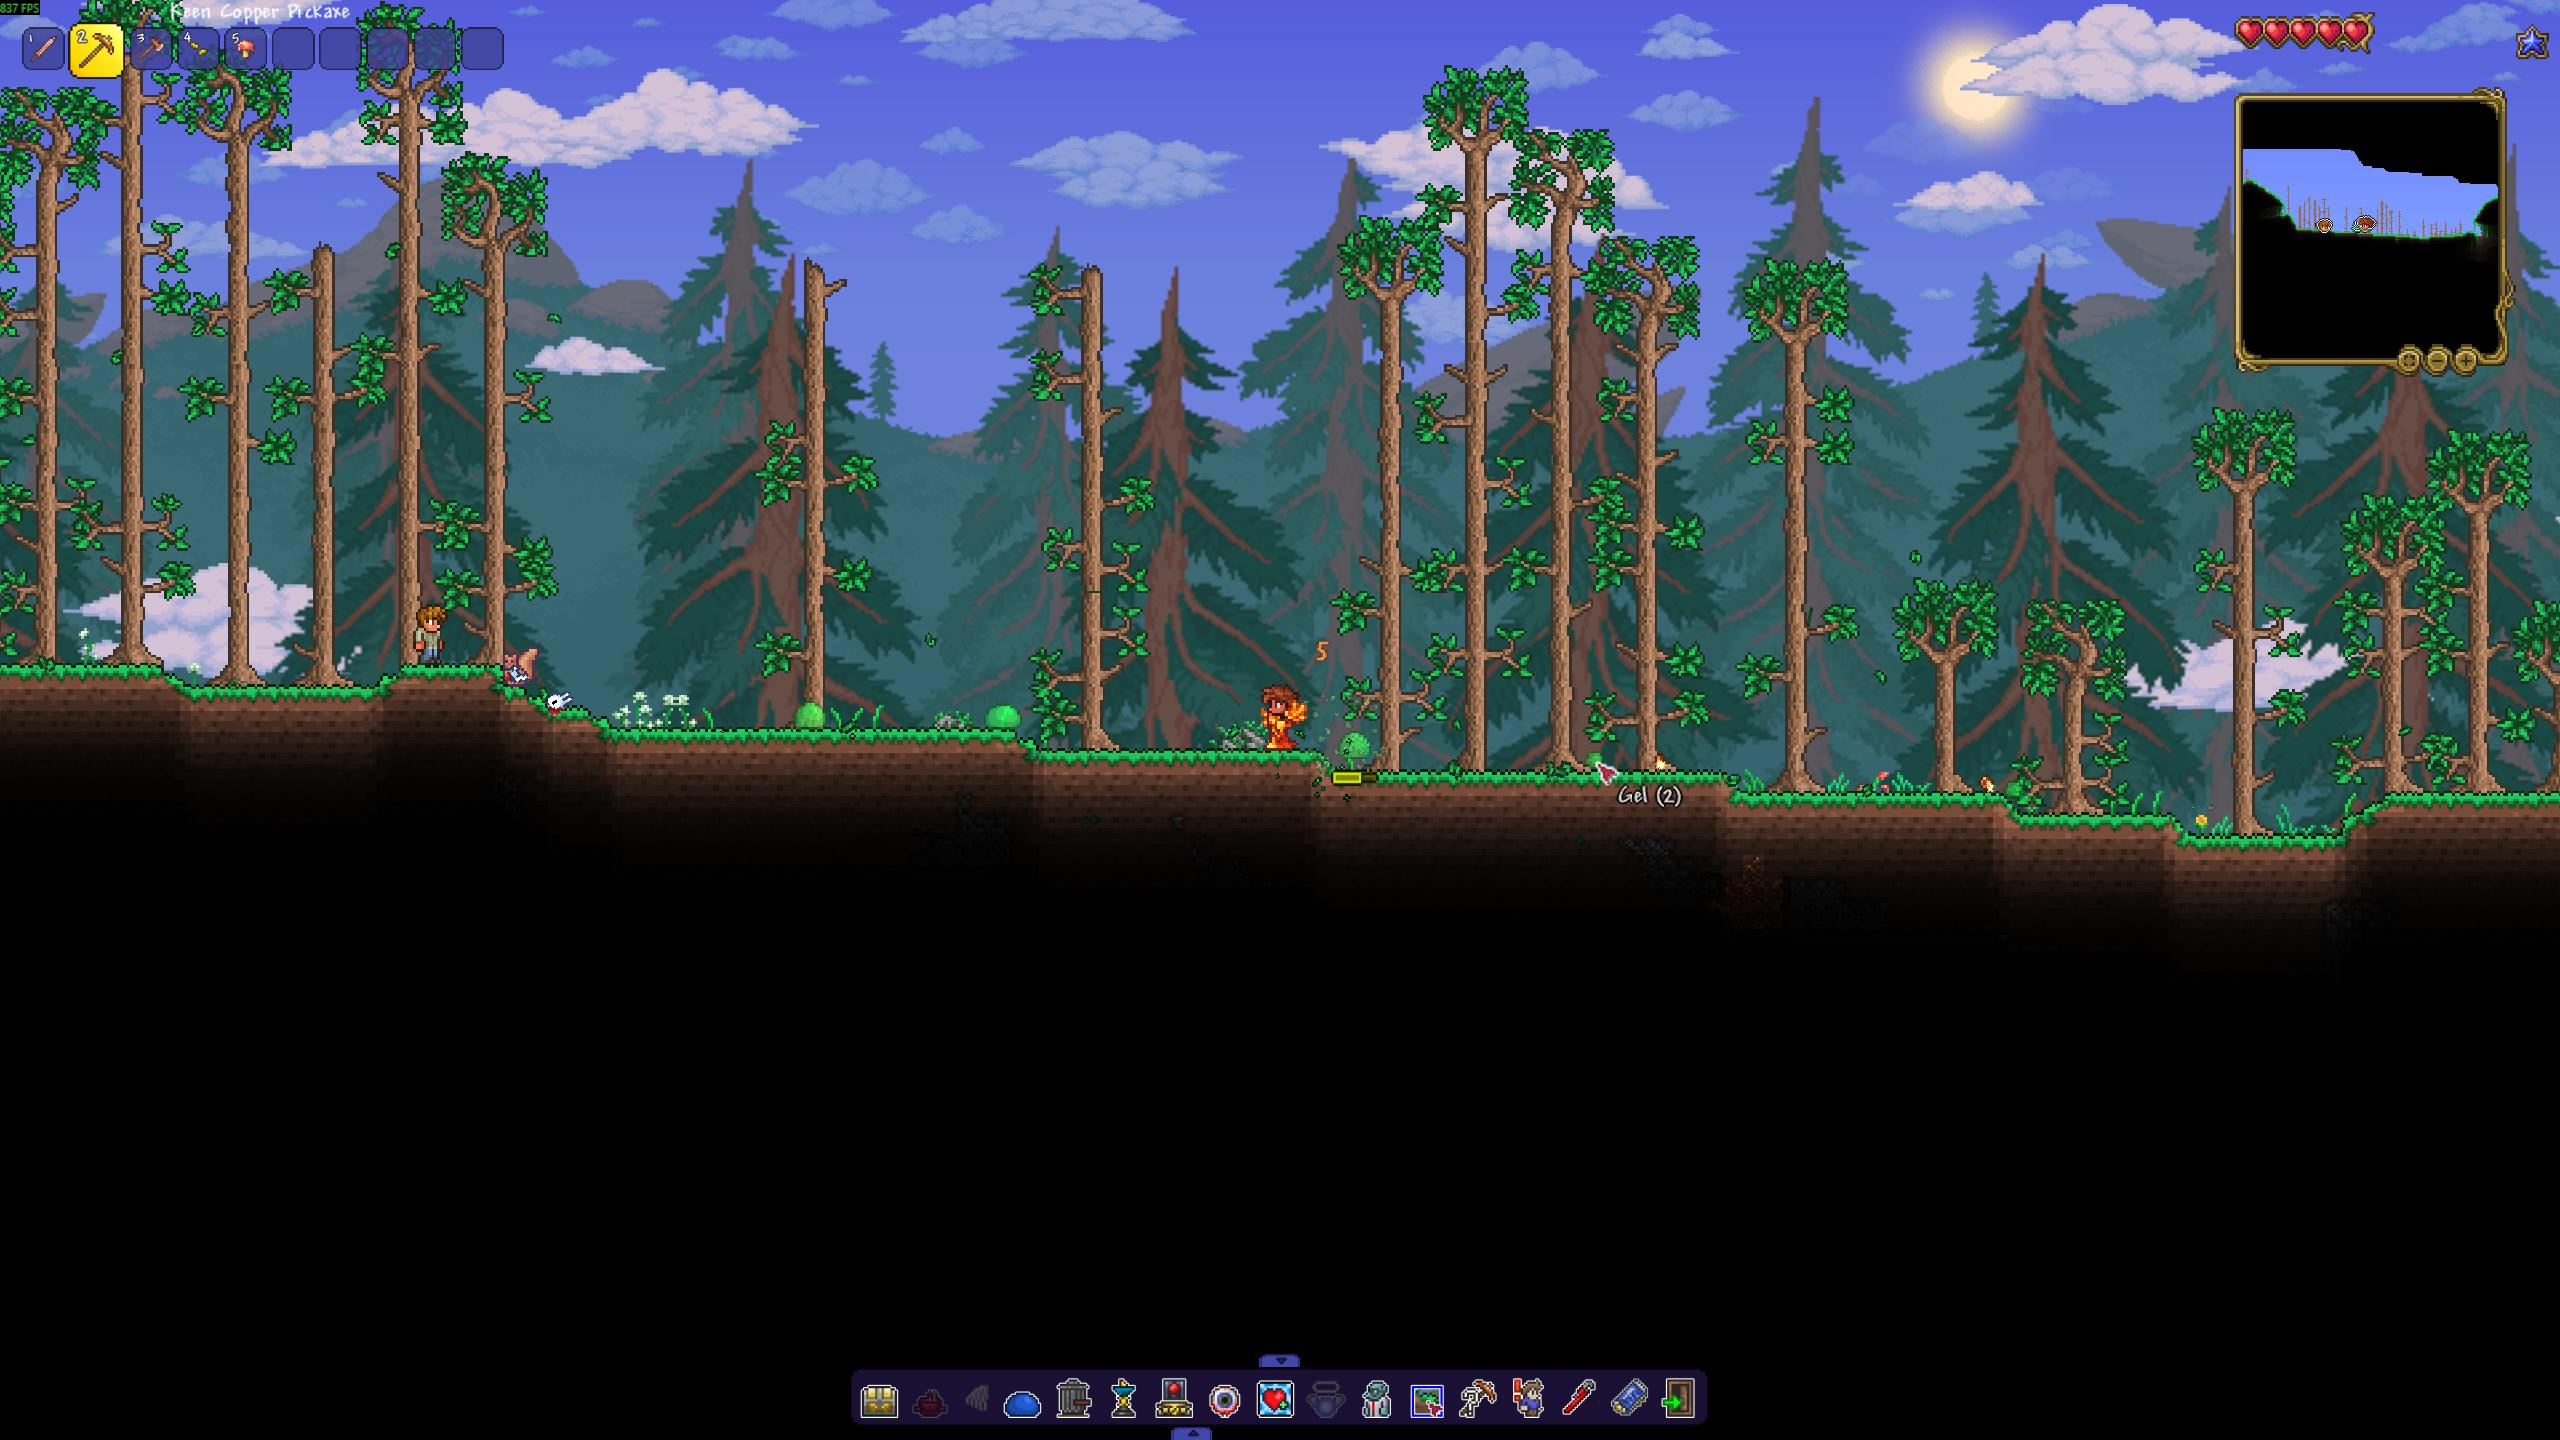Green Slime: (793, 695, 828, 730), (985, 698, 1020, 730), (1336, 731, 1373, 758)
